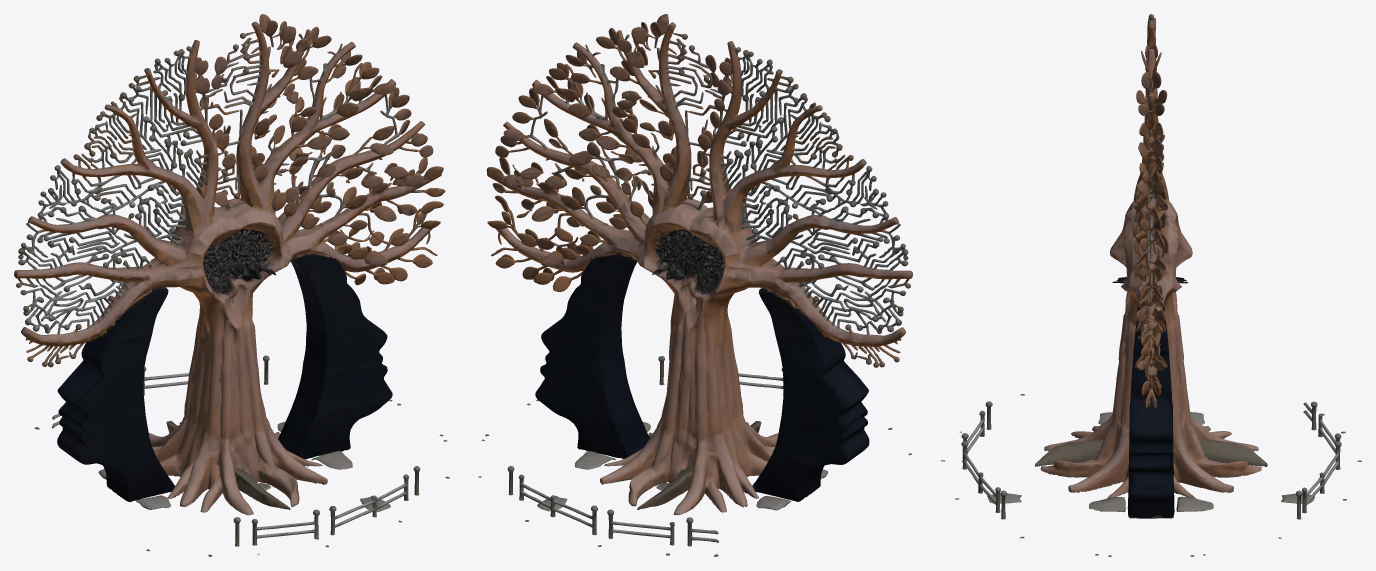
File: tree.glb
3 views of the same model, side by side, from view 1: azimuth 30°, elevation 25°; view 2: azimuth 150°, elevation 25°; view 3: azimuth 270°, elevation 25° (orthographic). The views are drawn at different scales.
Bounding box in the file's own units: 2.35 × 2.34 × 2.06.
Materials: 1 (1 with a texture image).
